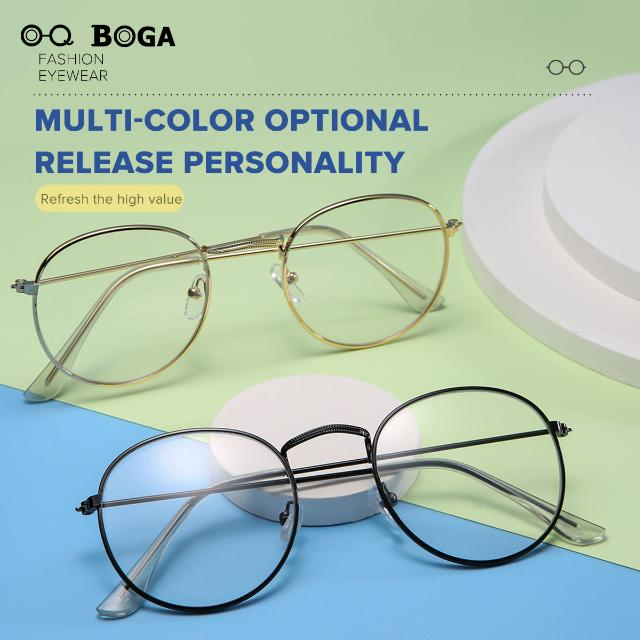glasses: (66, 366, 619, 636), (11, 203, 480, 416)
